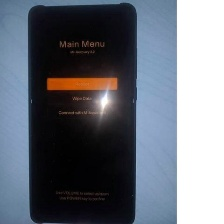phone: (25, 0, 138, 224)
